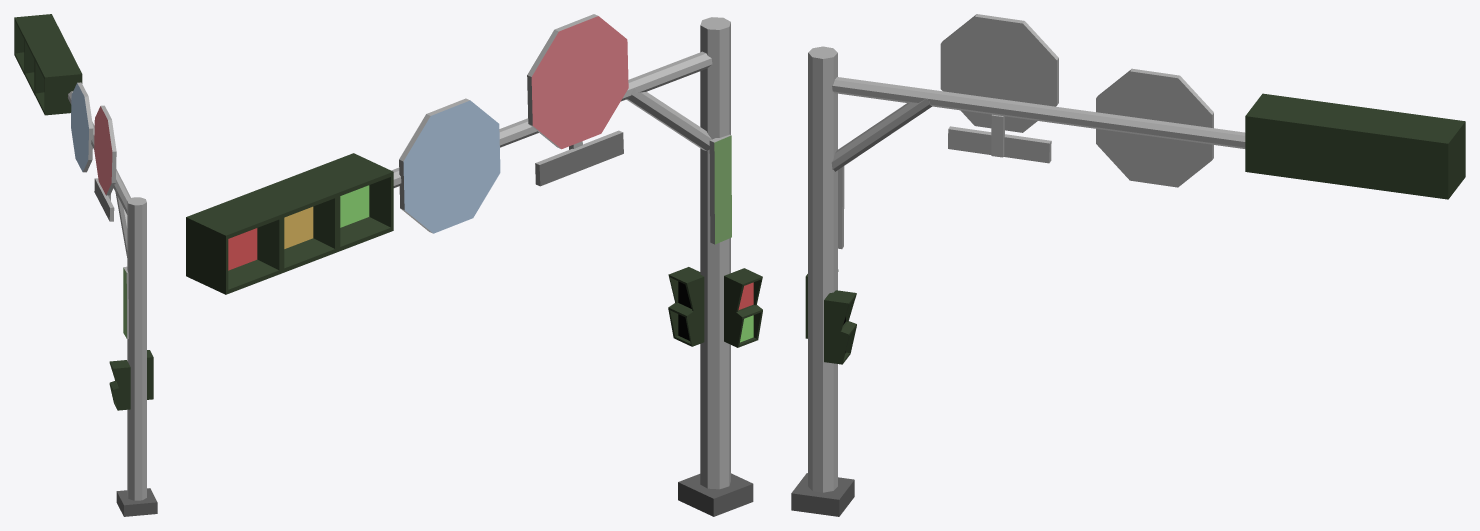
File: RGBSign.fbx
3 renders of one model, left to right at view 1: azimuth 30°, elevation 25°; view 2: azimuth 150°, elevation 25°; view 3: azimuth 270°, elevation 25°, orthographic. The views are drawn at different scales.
Visible parts, largest first — view 1: Cube.344; view 2: Cube.344; view 3: Cube.344.
Boxes of the visible parts, bbox=[...] form: Cube.344: bbox=[14, 14, 157, 516]; Cube.344: bbox=[186, 14, 762, 516]; Cube.344: bbox=[791, 14, 1465, 516].
Size of the model in its own units: 4.49 by 9.55 by 11.53.
